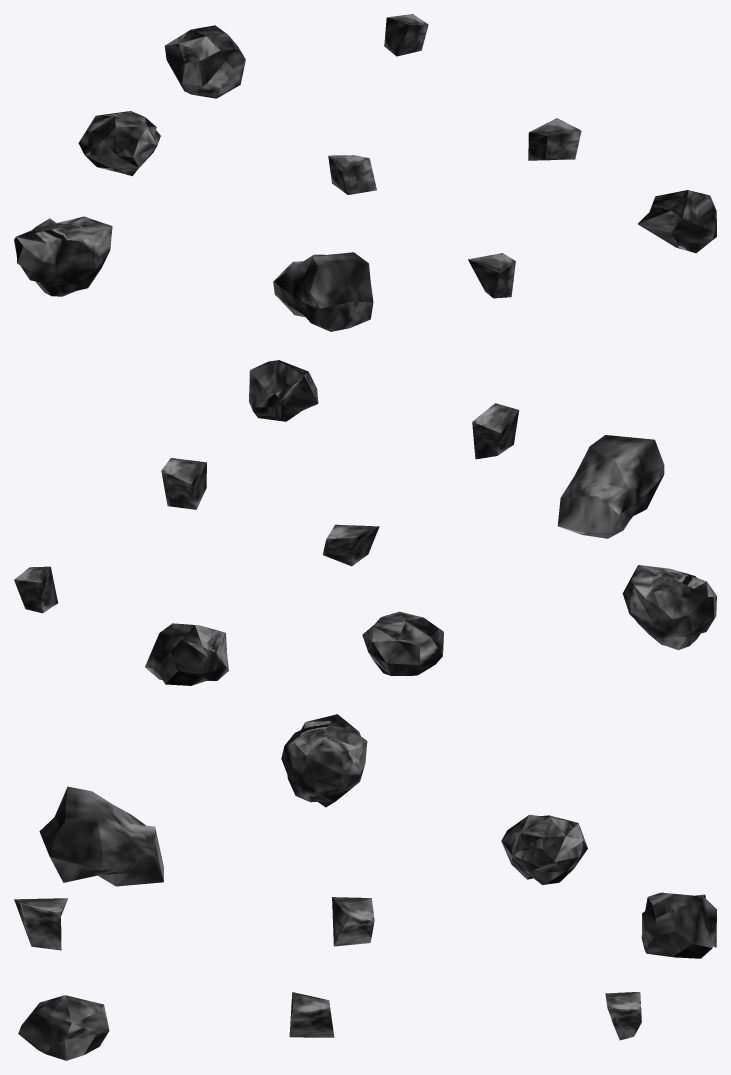
The model's file is rock_set_1.fbx.
3 views of the same model, one above another, from view 1: azimuth 30°, elevation 25°; view 2: azimuth 150°, elevation 25°; view 3: azimuth 270°, elevation 25° (orthographic). The views are drawn at different scales.
Parts seen in each view (by area): view 1: Rock.006, Rock.008, Rock.005, Rock.007, Rock, Rock.001, Rock.004, Rock.003, Rock.002; view 2: Rock.006, Rock.008, Rock.005, Rock.007, Rock, Rock.003, Rock.001, Rock.004, Rock.002; view 3: Rock.006, Rock.008, Rock.005, Rock.007, Rock, Rock.003, Rock.004, Rock.001, Rock.002.
Boxes of the visible parts, x1=… form: Rock.006: x1=273, y1=252, x2=373, y2=331; Rock.008: x1=14, y1=216, x2=112, y2=296; Rock.005: x1=164, y1=25, x2=245, y2=98; Rock.007: x1=78, y1=111, x2=160, y2=176; Rock: x1=638, y1=190, x2=716, y2=253; Rock.001: x1=528, y1=118, x2=581, y2=160; Rock.004: x1=328, y1=155, x2=376, y2=194; Rock.003: x1=468, y1=253, x2=515, y2=298; Rock.002: x1=384, y1=14, x2=428, y2=56; Rock.006: x1=557, y1=435, x2=664, y2=538; Rock.008: x1=622, y1=565, x2=716, y2=650; Rock.005: x1=145, y1=623, x2=228, y2=685; Rock.007: x1=362, y1=611, x2=443, y2=675; Rock: x1=249, y1=360, x2=318, y2=421; Rock.003: x1=472, y1=403, x2=519, y2=459; Rock.001: x1=161, y1=458, x2=206, y2=509; Rock.004: x1=323, y1=524, x2=379, y2=566; Rock.002: x1=14, y1=566, x2=57, y2=613; Rock.006: x1=39, y1=786, x2=163, y2=886; Rock.008: x1=281, y1=714, x2=367, y2=807; Rock.005: x1=641, y1=892, x2=716, y2=958; Rock.007: x1=501, y1=814, x2=587, y2=884; Rock: x1=18, y1=995, x2=109, y2=1060; Rock.003: x1=14, y1=898, x2=67, y2=950; Rock.004: x1=332, y1=897, x2=374, y2=946; Rock.001: x1=289, y1=992, x2=334, y2=1037; Rock.002: x1=605, y1=992, x2=641, y2=1040.
Bounding box in the file's own units: 1176 × 161 × 1150.
